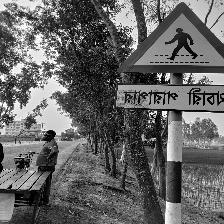Pedestrian-crossing: (116, 2, 224, 115)
